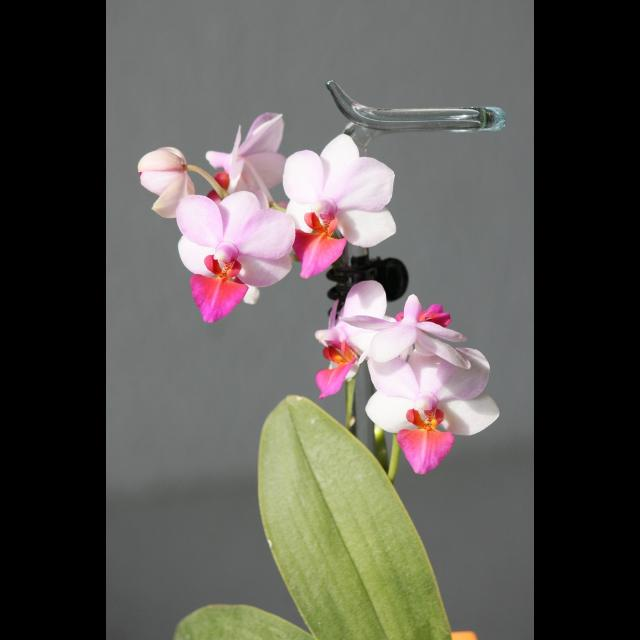Flower: (137, 110, 397, 324), (322, 272, 494, 476)
